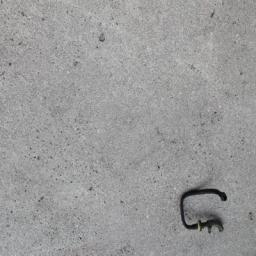FOD: (178, 186, 231, 236)
